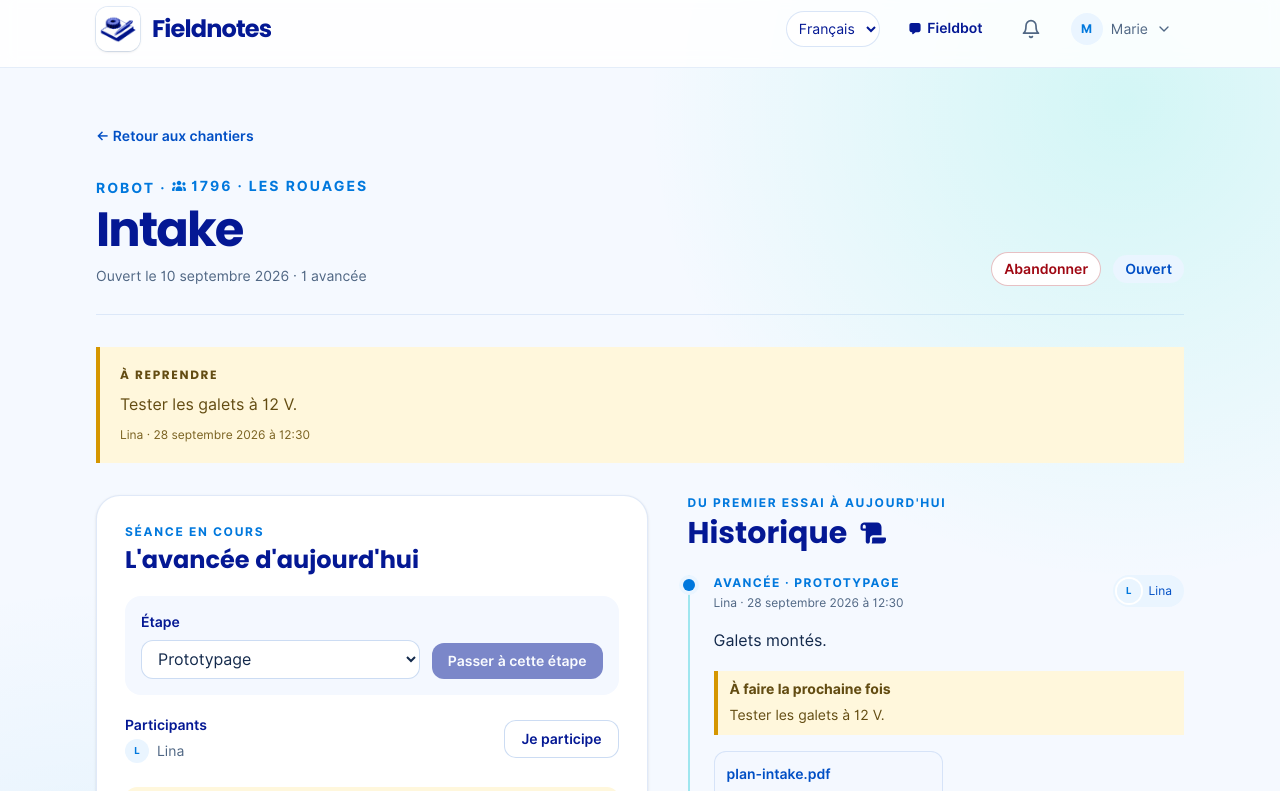
Test: joins an existing progress without changing its step
What coordinates should you click on to do the following:
click the button "Je participe"
I would click on:
 (562, 739)
Its box is [504, 720, 619, 758].
(page scrolled)
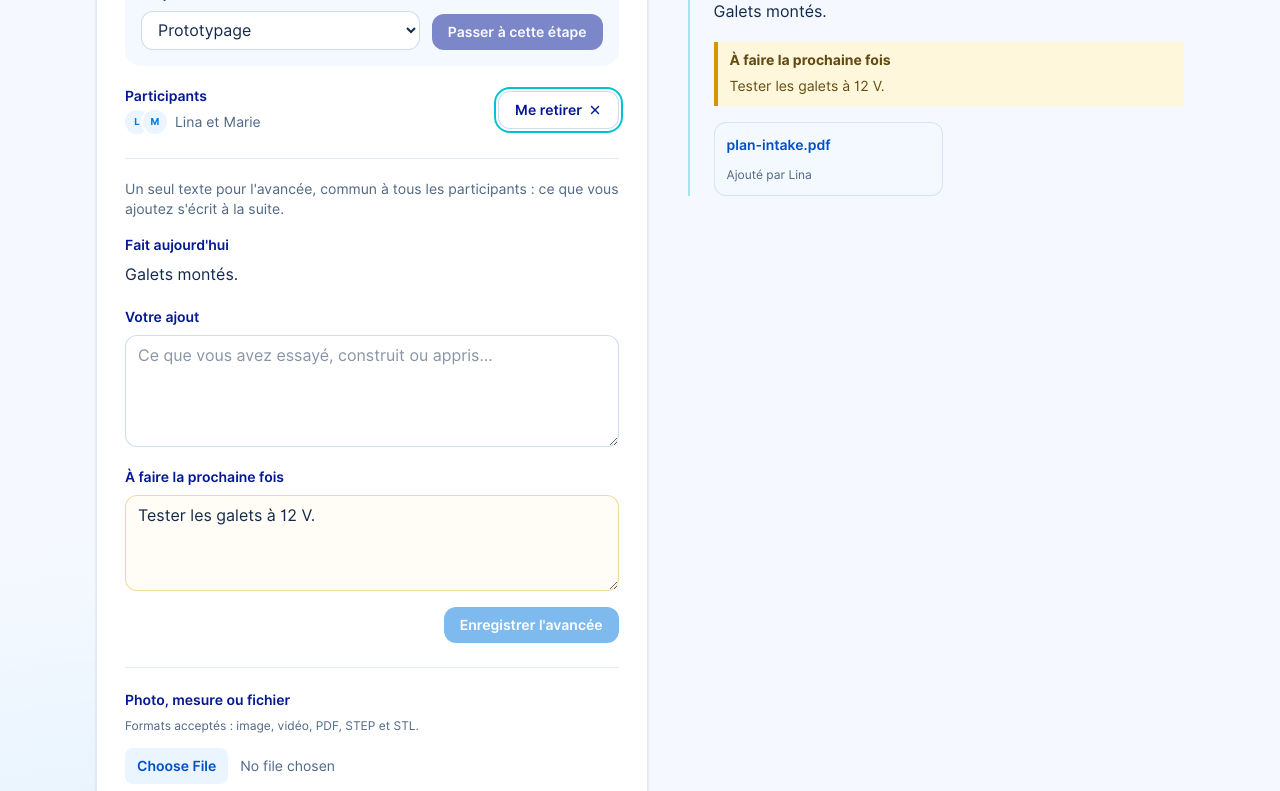
Check: the text box labelled "Votre ajout" is shown, box [125, 335, 619, 447]
